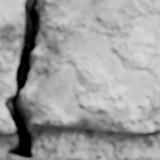brick: (29, 156, 81, 159), (0, 154, 24, 159), (134, 155, 159, 159)
broken_brick: (22, 0, 159, 134), (0, 0, 23, 135)
crack: (0, 0, 41, 159)
